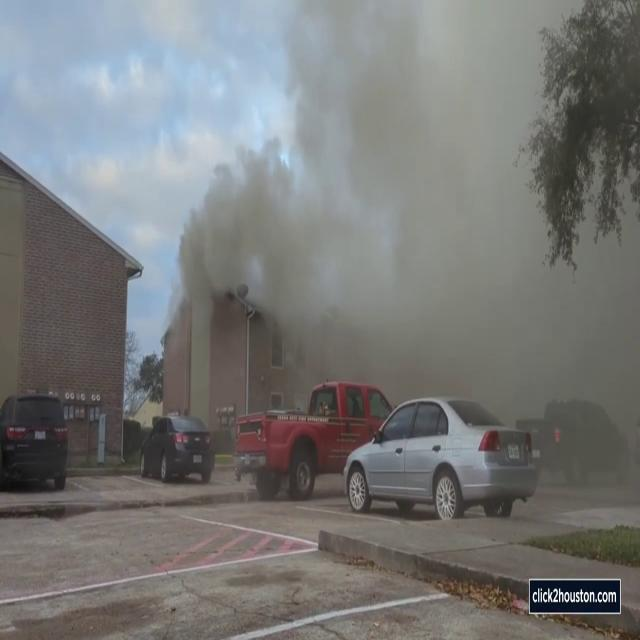Smoke: (300, 2, 640, 409), (163, 110, 321, 344)
